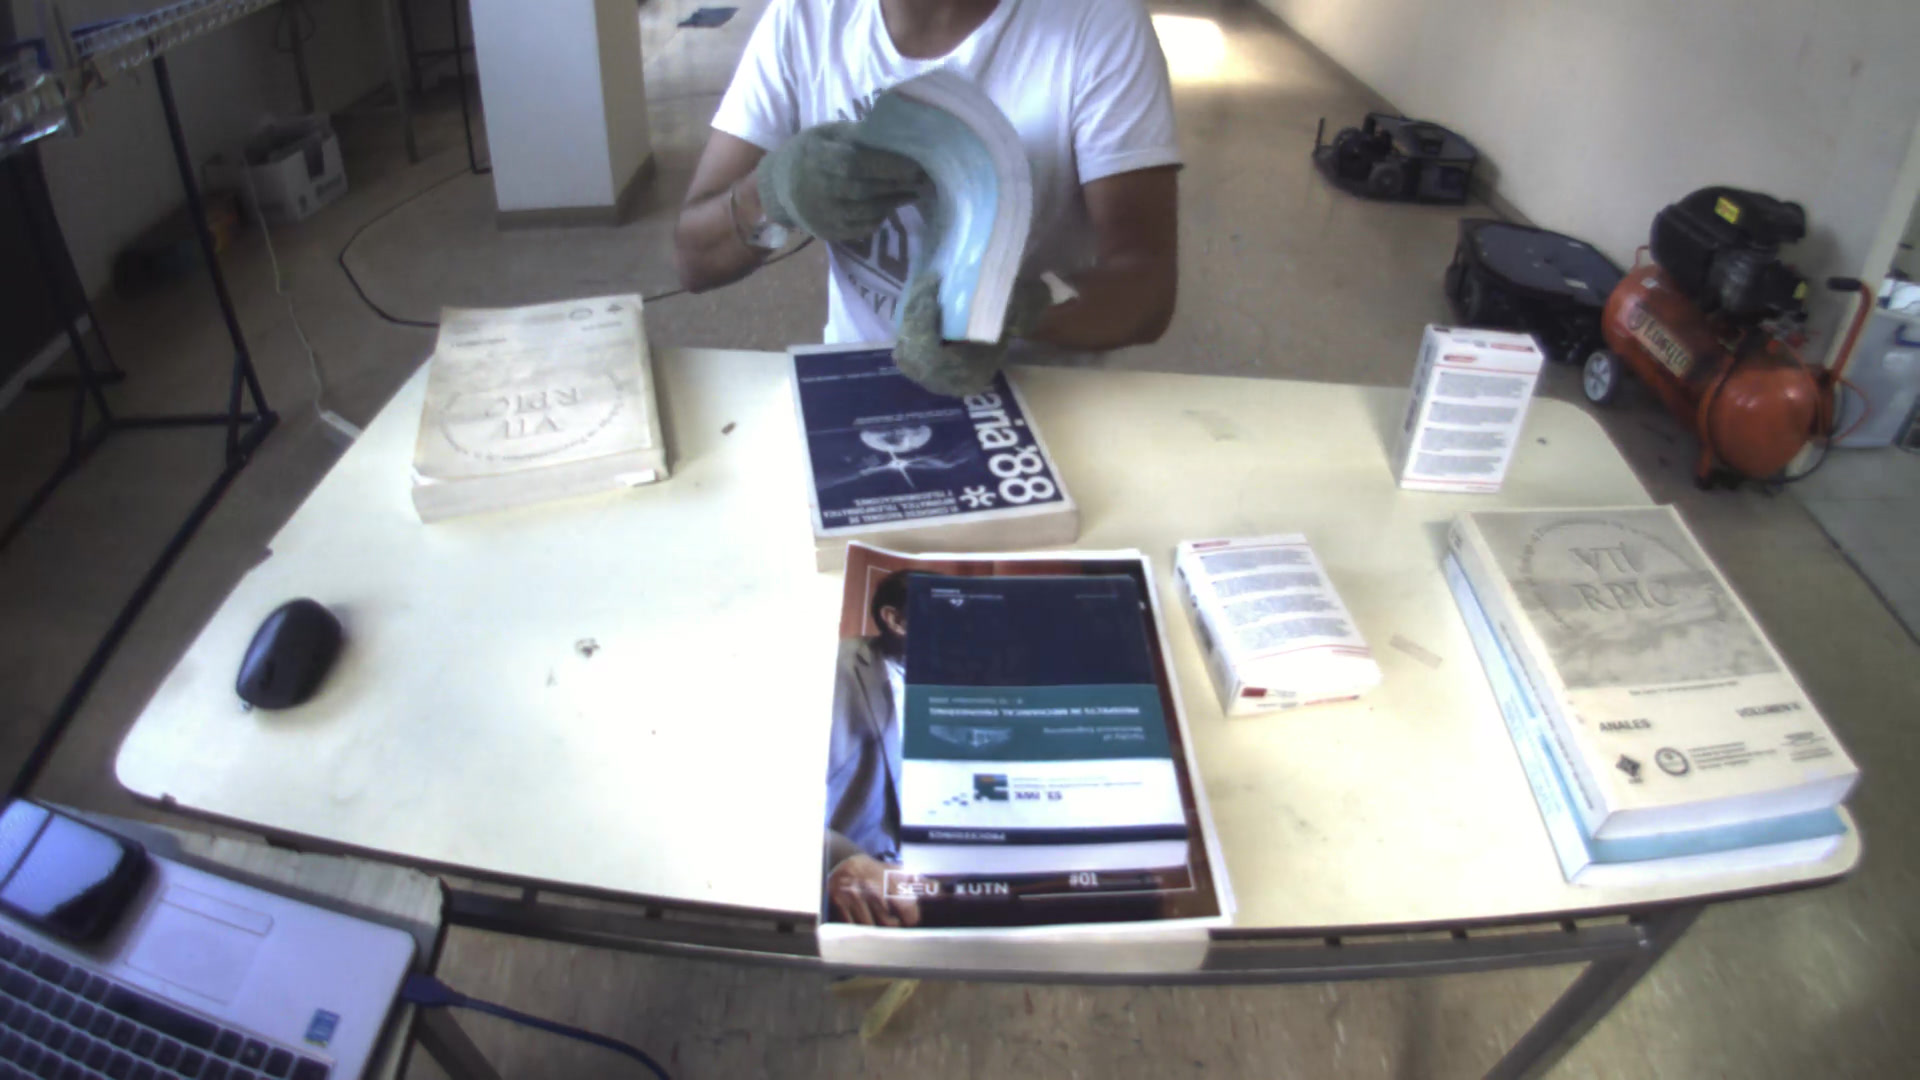hand: (748, 112, 931, 251), (890, 274, 1051, 396)
